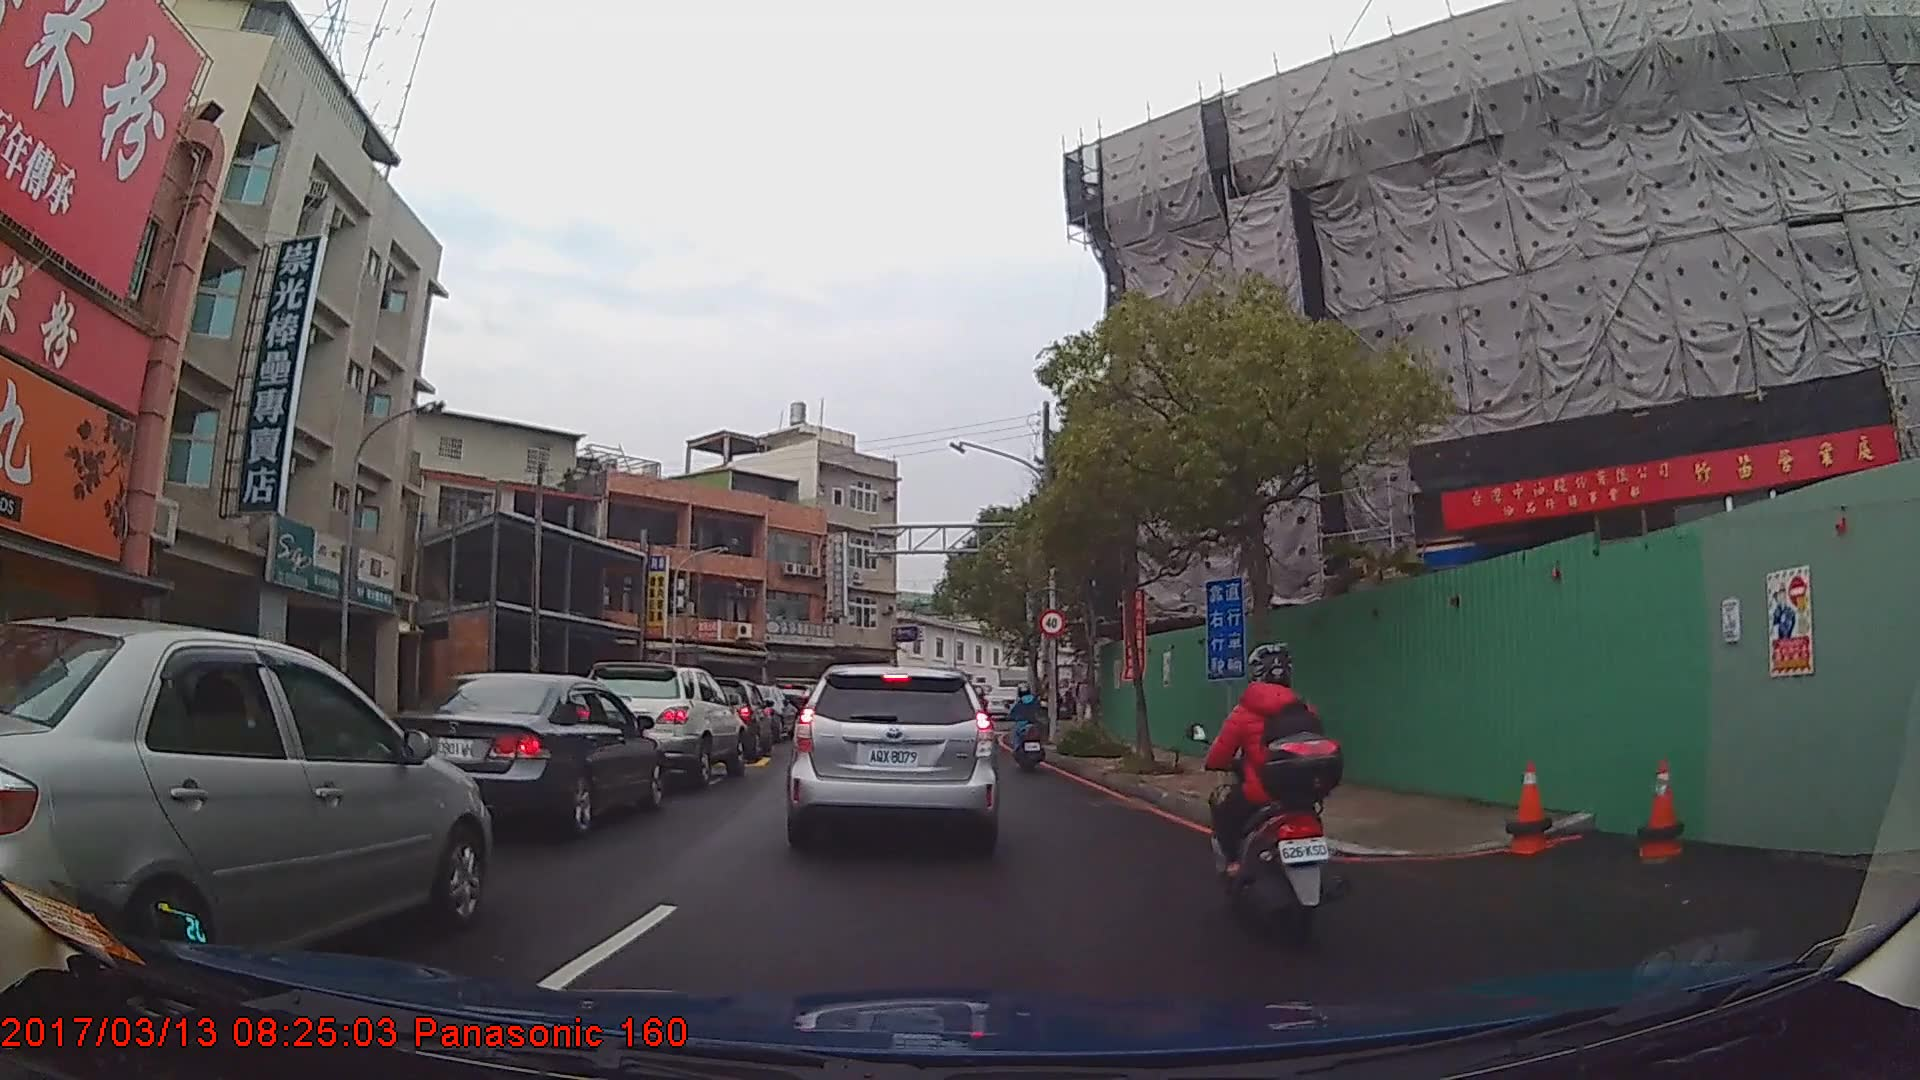rider: (1194, 643, 1358, 943), (1006, 683, 1051, 776)
vehicle: (0, 611, 487, 989), (383, 670, 663, 836), (782, 662, 999, 852), (582, 656, 745, 785)
